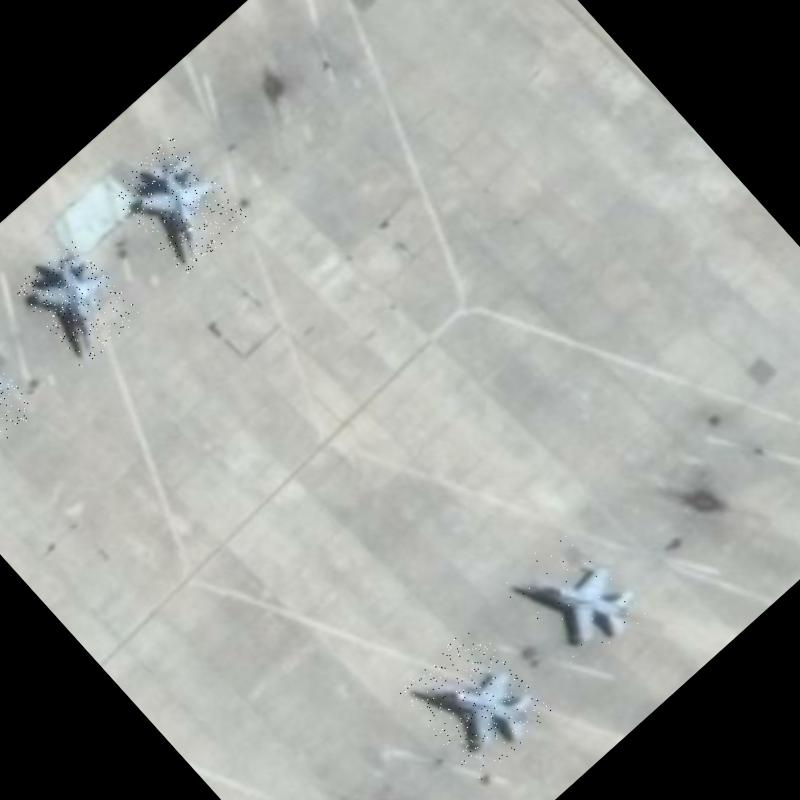A16: (394, 621, 554, 782), (498, 520, 654, 678), (107, 132, 250, 277), (10, 235, 142, 368), (0, 330, 39, 469)
